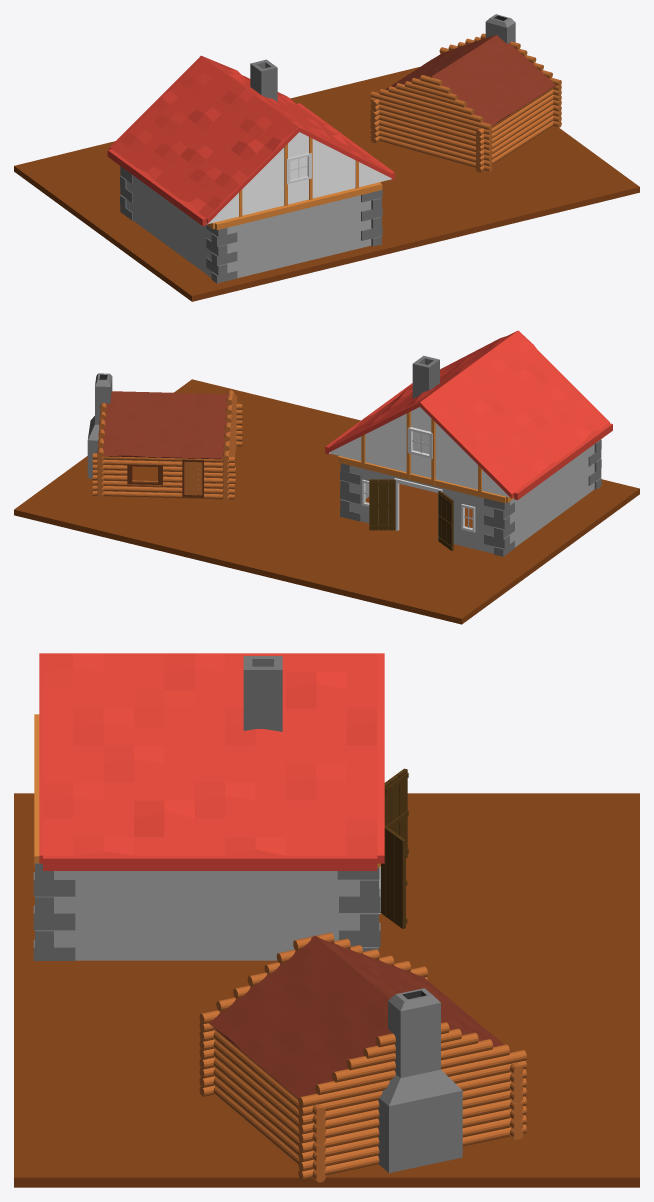
The model's file is WarehouseAge1.fbx.
3 renders of one model, top to bottom at view 1: azimuth 30°, elevation 25°; view 2: azimuth 150°, elevation 25°; view 3: azimuth 270°, elevation 25°, orthographic. The views are drawn at different scales.
Visible parts, largest first — view 1: Cube.327, Cube.349, Cube.405, Cube.381, Cube.042, Cube.380, Cube.328, Cylinder.058, Cube.379, Cylinder.027, Cylinder.025, Cylinder.029 (+9 smaller); view 2: Cube.327, Cube.349, Cube.380, Cube.405, Cube.313, Cube.379, Cube.328, Cylinder.077, Cylinder.060, Cylinder.006, Cylinder.059, Cylinder.007 (+2 smaller); view 3: Cube.327, Cube.349, Cube.405, Cube.381, Cube.379, Cube.380, Cube.328, Cylinder.043, Cylinder.045, Cylinder.035, Cylinder.039, Cylinder.033 (+19 smaller).
Part boxes in pixels (x1,y1,x2,y2): Cube.327: (14,66,639,301); Cube.349: (107,55,394,225); Cube.405: (126,175,371,278); Cube.381: (431,35,556,125); Cube.042: (215,182,382,229); Cube.380: (385,35,495,90); Cube.328: (250,59,277,101); Cylinder.058: (370,91,492,130); Cube.379: (485,14,515,43); Cylinder.027: (370,120,492,156); Cylinder.025: (370,130,492,166); Cylinder.029: (370,109,492,145); Cube.327: (14,379,639,624); Cube.349: (325,330,612,500); Cube.380: (102,391,229,459); Cube.405: (350,444,594,553); Cube.313: (339,457,505,503); Cube.379: (87,373,112,478); Cube.328: (412,355,439,398); Cylinder.077: (92,491,234,499); Cylinder.060: (92,485,234,494); Cylinder.006: (92,459,234,468); Cylinder.059: (92,480,234,489); Cylinder.007: (92,453,234,462); Cube.327: (14,793,639,1187); Cube.349: (39,653,384,870); Cube.405: (54,871,359,960); Cube.381: (209,935,392,1098); Cube.379: (377,988,462,1172); Cube.380: (315,936,512,1052); Cube.328: (243,656,282,731); Cylinder.043: (298,1050,526,1107); Cylinder.045: (315,1044,509,1094); Cylinder.035: (298,1096,526,1152); Cylinder.039: (298,1060,526,1115); Cylinder.033: (298,1115,526,1171).
Size of the model in its own units: 834 by 263 by 568.
